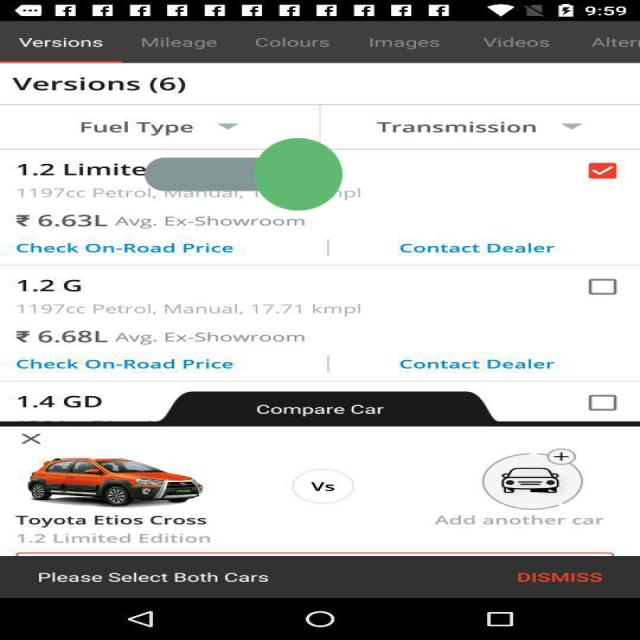social proof: (144, 94, 342, 255)
